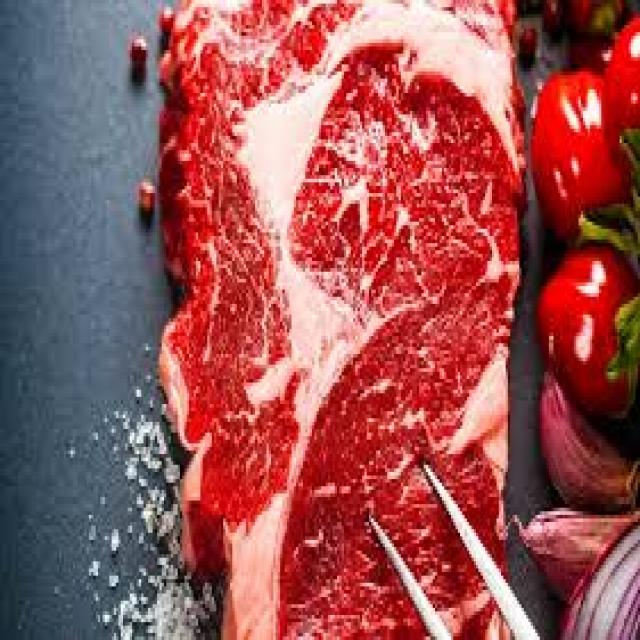beef: (150, 0, 512, 636)
